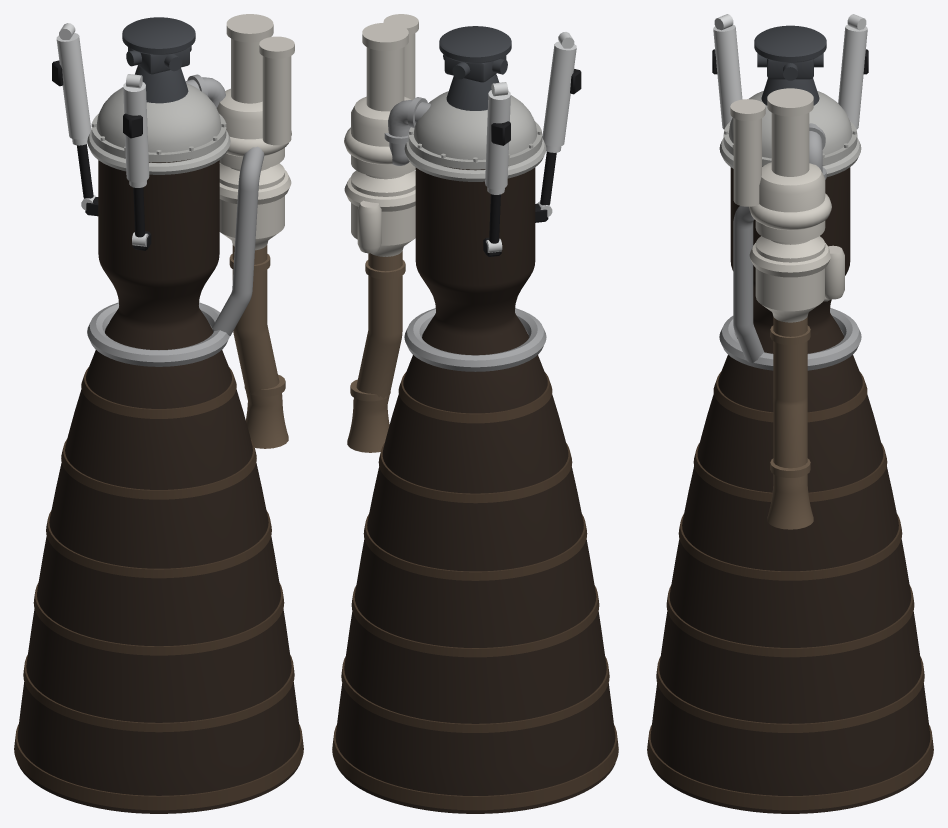
The model's file is k1_booster.glb.
The picture shows the model from 3 angles, left to right: view 1: azimuth 30°, elevation 25°; view 2: azimuth 150°, elevation 25°; view 3: azimuth 270°, elevation 25°; orthographic projection.
Visible parts, largest first — view 1: K1B_Nozzle, K1B_NozzleBands, K1B_Turbopump, K1B_PropellantLines, K1B_InjectorDome, K1B_Actuators, K1B_GGExhaust, K1B_GimbalMount, K1B_GGExhaustFlanges; view 2: K1B_Nozzle, K1B_NozzleBands, K1B_Turbopump, K1B_InjectorDome, K1B_Actuators, K1B_GGExhaust, K1B_PropellantLines, K1B_GimbalMount, K1B_GGExhaustFlanges; view 3: K1B_Nozzle, K1B_Turbopump, K1B_NozzleBands, K1B_GGExhaust, K1B_PropellantLines, K1B_Actuators, K1B_GimbalMount, K1B_InjectorDome, K1B_GGExhaustFlanges.
Boxes of the visible parts, box(x1,y1,x2,y2) form: K1B_Nozzle: box(17, 159, 300, 813); K1B_NozzleBands: box(14, 367, 303, 810); K1B_Turbopump: box(216, 14, 294, 250); K1B_PropellantLines: box(87, 74, 264, 366); K1B_InjectorDome: box(87, 83, 230, 174); K1B_Actuators: box(52, 23, 151, 250); K1B_GGExhaust: box(232, 245, 288, 448); K1B_GimbalMount: box(122, 17, 195, 103); K1B_GGExhaustFlanges: box(229, 254, 285, 396); K1B_Nozzle: box(335, 166, 615, 813); K1B_NozzleBands: box(332, 372, 618, 810); K1B_Turbopump: box(344, 14, 418, 256); K1B_InjectorDome: box(404, 91, 546, 181); K1B_Actuators: box(483, 32, 581, 256); K1B_GGExhaust: box(347, 251, 402, 452); K1B_PropellantLines: box(384, 97, 546, 371); K1B_GimbalMount: box(439, 26, 511, 110); K1B_GGExhaustFlanges: box(350, 260, 405, 401); K1B_Nozzle: box(650, 166, 930, 813); K1B_Turbopump: box(730, 88, 844, 322); K1B_NozzleBands: box(647, 372, 933, 810); K1B_GGExhaust: box(767, 317, 813, 529); K1B_PropellantLines: box(719, 123, 861, 370); K1B_Actuators: box(712, 14, 868, 129); K1B_GimbalMount: box(754, 25, 826, 105); K1B_InjectorDome: box(719, 91, 861, 176); K1B_GGExhaustFlanges: box(770, 325, 810, 477).
Bounding box in the file's own units: 0.917 × 2.5 × 0.91.
